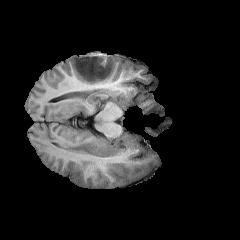glioma: (67, 53, 115, 85)
